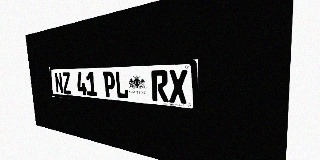1: (85, 72, 97, 96)
4: (76, 72, 87, 95)
L: (115, 71, 129, 99)
N: (54, 72, 63, 93)
P: (103, 71, 116, 98)
R: (151, 70, 169, 102)
X: (168, 70, 188, 104)
Z: (62, 72, 71, 94)
